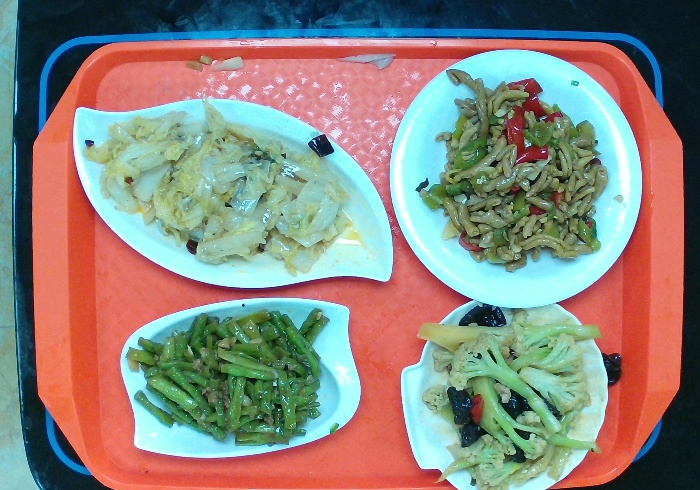RJxy-Bei_Ke_Wan: (395, 290, 613, 490)
RJxy-Jian_Jiao_Fang_Die: (116, 292, 366, 462)
RJxy-Jian_Jiao_Pan: (68, 94, 397, 293)
RJxy-Yuan_Pan: (377, 44, 653, 317)
